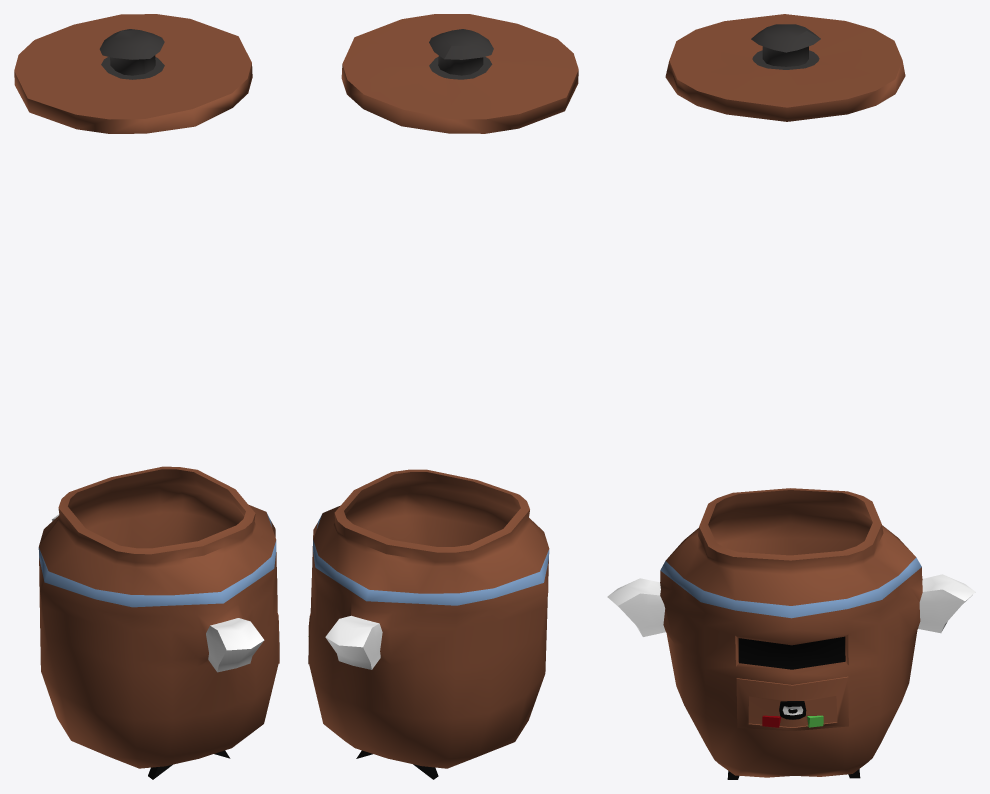
Rendered from NoRiceCooker.fbx.
3 renders of one model, left to right at view 1: azimuth 30°, elevation 25°; view 2: azimuth 150°, elevation 25°; view 3: azimuth 270°, elevation 25°, orthographic.
Parts seen in each view (by area): view 1: Rice cooker Body Lined, Lid; view 2: Rice cooker Body Lined, Lid; view 3: Rice cooker Body Lined, Lid.
Part boxes in pixels (x1=…): Rice cooker Body Lined: x1=38, y1=466, x2=279, y2=779; Lid: x1=14, y1=14, x2=252, y2=133; Rice cooker Body Lined: x1=308, y1=469, x2=549, y2=779; Lid: x1=341, y1=14, x2=578, y2=133; Rice cooker Body Lined: x1=607, y1=488, x2=975, y2=779; Lid: x1=665, y1=14, x2=905, y2=121.
Size of the model in its own units: 979 by 2678 by 1246.
